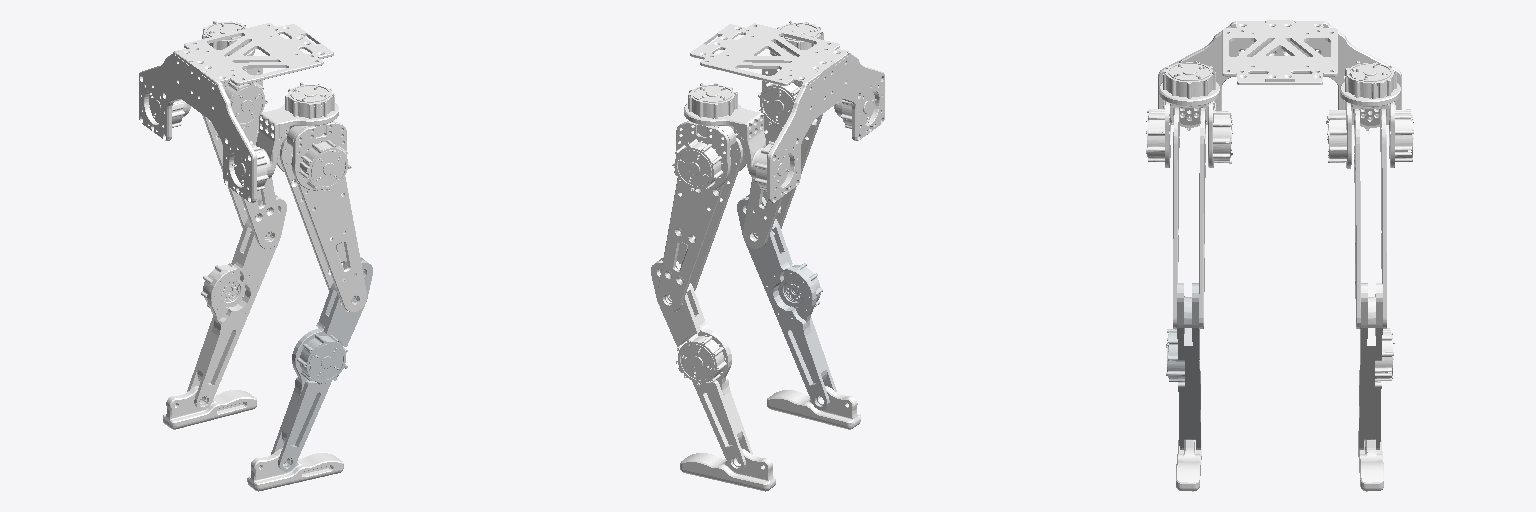
robot.urdf — neobot_no_mass_matrix:
<?xml version="1.0" encoding="utf-8"?>
<!-- This URDF was automatically created by SolidWorks to URDF Exporter! Originally created by [author] ([email redacted]) 
     Commit Version: 1.6.0-4-g7f85cfe  Build Version: 1.6.7995.38578
     For more information, please see http://wiki.ros.org/sw_urdf_exporter -->
<robot
  name="neobot_no_mass_matrix">
  <link
    name="base_link">
    <inertial>
      <origin
        xyz="0.025332 -0.00013939 -0.019715"
        rpy="0 0 0" />
      <mass
        value="1.0259" />
      <inertia
        ixx="0.0040709"
        ixy="-2.6093E-08"
        ixz="5.2109E-07"
        iyy="0.0013339"
        iyz="2.9974E-06"
        izz="0.0039882" />
    </inertial>
    <visual>
      <origin
        xyz="0 0 0"
        rpy="0 0 0" />
      <geometry>
        <mesh
          filename="../meshes/base_link.STL" />
      </geometry>
      <material
        name="">
        <color
          rgba="1 1 1 1" />
      </material>
    </visual>
    <collision>
      <origin
        xyz="0.1 0 0"
        rpy="0 0 0" />
      <geometry>
        <!-- <mesh
          filename="../meshes/base_link.STL" /> -->
        <box size="0.23 0.32 0.2" />
      </geometry>
    </collision>
  </link>
  <link
    name="l_hip_roll_link">
    <inertial>
      <origin
        xyz="0.10952 0.00060667 0.077433"
        rpy="0 0 0" />
      <mass
        value="0.43907" />
      <inertia
        ixx="0.00020514"
        ixy="-1.6352E-06"
        ixz="-1.4054E-05"
        iyy="0.00024798"
        iyz="2.9614E-08"
        izz="0.00034195" />
    </inertial>
    <visual>
      <origin
        xyz="0 0 0"
        rpy="0 0 0" />
      <geometry>
        <mesh
          filename="../meshes/l_hip_roll_link.STL" />
      </geometry>
      <material
        name="">
        <color
          rgba="1 1 1 1" />
      </material>
    </visual>
    
  </link>
  <joint
    name="l_hip_roll_joint"
    type="revolute">
    <origin
      xyz="0.0059839 0.1348 -0.050437"
      rpy="0 0 0" />
    <parent
      link="base_link" />
    <child
      link="l_hip_roll_link" />
    <axis
      xyz="1 0 0" />
    <limit
      lower="-0.35"
      upper="0.7"
      effort="100"
      velocity="25" />
  </joint>
  <link
    name="l_hip_yaw_link">
    <inertial>
      <origin
        xyz="-0.0011389 -9.0175E-05 -0.099938"
        rpy="0 0 0" />
      <mass
        value="0.79496" />
      <inertia
        ixx="0.00036341"
        ixy="-6.6426E-06"
        ixz="-9.9482E-06"
        iyy="0.00061556"
        iyz="-2.7749E-07"
        izz="0.0003621" />
    </inertial>
    <visual>
      <origin
        xyz="0 0 0"
        rpy="0 0 0" />
      <geometry>
        <mesh
          filename="../meshes/l_hip_yaw_link.STL" />
      </geometry>
      <material
        name="">
        <color
          rgba="1 1 1 1" />
      </material>
    </visual>
    
  </link>
  <joint
    name="l_hip_yaw_joint"
    type="revolute">
    <origin
      xyz="0.12444 0.0004858 0.1045"
      rpy="0 0 0" />
    <parent
      link="l_hip_roll_link" />
    <child
      link="l_hip_yaw_link" />
    <axis
      xyz="0 0 1" />
    <limit
      lower="-0.35"
      upper="0.35"
      effort="100"
      velocity="25" />
  </joint>
  <link
    name="l_hip_pitch_link">
    <inertial>
      <origin
        xyz="0.028914 -0.061567 -0.10564"
        rpy="0 0 0" />
      <mass
        value="0.26986" />
      <inertia
        ixx="0.0019902"
        ixy="-6.2669E-06"
        ixz="0.00048401"
        iyy="0.0022286"
        iyz="1.275E-05"
        izz="0.00024107" />
    </inertial>
    <visual>
      <origin
        xyz="0 0 0"
        rpy="0 0 0" />
      <geometry>
        <mesh
          filename="../meshes/l_hip_pitch_link.STL" />
      </geometry>
      <material
        name="">
        <color
          rgba="1 1 1 1" />
      </material>
    </visual>
    
  </link>
  <joint
    name="l_hip_pitch_joint"
    type="revolute">
    <origin
      xyz="-0.0016555 0.063239 -0.10747"
      rpy="0 0 0" />
    <parent
      link="l_hip_yaw_link" />
    <child
      link="l_hip_pitch_link" />
    <axis
      xyz="0.02617 -0.99966 0" />
    <limit
      lower="-1"
      upper="1"
      effort="100"
      velocity="25" />
  </joint>
  <link
    name="l_knee_pitch_link">
    <inertial>
      <origin
        xyz="-0.05093 0.014286 -0.094778"
        rpy="0 0 0" />
      <mass
        value="0.61414" />
      <inertia
        ixx="0.0024395"
        ixy="-1.4322E-05"
        ixz="-0.00099695"
        iyy="0.0030292"
        iyz="-2.6006E-05"
        izz="0.00067015" />
    </inertial>
    <visual>
      <origin
        xyz="0 0 0"
        rpy="0 0 0" />
      <geometry>
        <mesh
          filename="../meshes/l_knee_pitch_link.STL" />
      </geometry>
      <material
        name="">
        <color
          rgba="1 1 1 1" />
      </material>
    </visual>
    
  </link>
  <joint
    name="l_knee_pitch_joint"
    type="revolute">
    <origin
      xyz="0.069483 -0.067847 -0.26198"
      rpy="0 0 0" />
    <parent
      link="l_hip_pitch_link" />
    <child
      link="l_knee_pitch_link" />
    <axis
      xyz="0.02617 -0.99966 0" />
    <limit
      lower="-1"
      upper="1"
      effort="100"
      velocity="25" />
  </joint>
  <link
    name="l_ankle_pitch_link">
    <inertial>
      <origin
        xyz="0.0182968915849038 0.00671074692625817 -0.0230131226592281"
        rpy="0 0 0" />
      <mass
        value="0.150424633030641" />
      <inertia
        ixx="3.39685529656541E-05"
        ixy="-1.00223126318698E-05"
        ixz="1.65280472263256E-05"
        iyy="0.000329059253769662"
        iyz="5.24825584617872E-07"
        izz="0.00031977114492758" />
    </inertial>
    <visual>
      <origin
        xyz="0 0 0"
        rpy="0 0 0" />
      <geometry>
        <mesh
          filename="../meshes/l_ankle_pitch_link.STL" />
      </geometry>
      <material
        name="">
        <color
          rgba="1 1 1 1" />
      </material>
    </visual>
    <collision
      name="l_ankle_pitch_link_collision">
      <origin
        xyz="0. 0. -0."
        rpy="0 0 0" />
      <!-- <origin
        xyz="0.015 0.007 -0.035"
        rpy="0 0 0" /> -->
      <geometry>
        <mesh
          filename="../meshes/l_ankle_pitch_link.STL" />
          <!-- <box 
            size="0.15 0.03 0.01" /> -->
      </geometry>
    </collision>
  </link>
  <joint
    name="l_ankle_pitch_joint"
    type="revolute">
    <origin
      xyz="-0.11851 -0.00066656 -0.26317"
      rpy="0 0 0" />
    <parent
      link="l_knee_pitch_link" />
    <child
      link="l_ankle_pitch_link" />
    <axis
      xyz="-0.02617 0.99966 0" />
    <limit
      lower="-1"
      upper="1"
      effort="100"
      velocity="25" />
  </joint>
  <link
    name="r_hip_roll_link">
    <inertial>
      <origin
        xyz="0.11124 -0.0002406 0.077505"
        rpy="0 0 0" />
      <mass
        value="0.43907" />
      <inertia
        ixx="0.00020805"
        ixy="-6.817E-07"
        ixz="-1.4015E-05"
        iyy="0.00024507"
        iyz="-5.2307E-09"
        izz="0.00034195" />
    </inertial>
    <visual>
      <origin
        xyz="0 0 0"
        rpy="0 0 0" />
      <geometry>
        <mesh
          filename="../meshes/r_hip_roll_link.STL" />
      </geometry>
      <material
        name="">
        <color
          rgba="1 1 1 1" />
      </material>
    </visual>
    
  </link>
  <joint
    name="r_hip_roll_joint"
    type="revolute">
    <origin
      xyz="0.0020094 -0.13529 -0.050508"
      rpy="0 0 0" />
    <parent
      link="base_link" />
    <child
      link="r_hip_roll_link" />
    <axis
      xyz="1 0 0" />
    <limit
      lower="-0.7"
      upper="0.35"
      effort="100"
      velocity="25" />
  </joint>
  <link
    name="r_hip_yaw_link">
    <inertial>
      <origin
        xyz="-0.0014454 3.7879E-05 -0.10005"
        rpy="0 0 0" />
      <mass
        value="0.79496" />
      <inertia
        ixx="0.00036162"
        ixy="6.6346E-06"
        ixz="-1.1833E-05"
        iyy="0.00061556"
        iyz="3.5286E-07"
        izz="0.00036389" />
    </inertial>
    <visual>
      <origin
        xyz="0 0 0"
        rpy="0 0 0" />
      <geometry>
        <mesh
          filename="../meshes/r_hip_yaw_link.STL" />
      </geometry>
      <material
        name="">
        <color
          rgba="1 1 1 1" />
      </material>
    </visual>
    
  </link>
  <joint
    name="r_hip_yaw_joint"
    type="revolute">
    <origin
      xyz="0.12641 0 0.10457"
      rpy="0 0 0" />
    <parent
      link="r_hip_roll_link" />
    <child
      link="r_hip_yaw_link" />
    <axis
      xyz="0 0 1" />
    <limit
      lower="-0.35"
      upper="0.35"
      effort="100"
      velocity="25" />
  </joint>
  <link
    name="r_hip_pitch_link">
    <inertial>
      <origin
        xyz="0.0296613029326732 0.0615385133216562 -0.105441901990499"
        rpy="0 0 0" />
      <mass
        value="0.269855469121405" />
      <inertia
        ixx="0.00198325131710804"
        ixy="6.40714270998516E-06"
        ixz="0.000496356338465778"
        iyy="0.00222863110875713"
        iyz="-1.29149112081268E-05"
        izz="0.000248019984218983" />
    </inertial>
    <visual>
      <origin
        xyz="0 0 0"
        rpy="0 0 0" />
      <geometry>
        <mesh
          filename="../meshes/r_hip_pitch_link.STL" />
      </geometry>
      <material
        name="">
        <color
          rgba="1 1 1 1" />
      </material>
    </visual>
    
  </link>
  <joint
    name="r_hip_pitch_joint"
    type="revolute">
    <origin
      xyz="-0.0015203 -0.063243 -0.10796"
      rpy="0 0 0" />
    <parent
      link="r_hip_yaw_link" />
    <child
      link="r_hip_pitch_link" />
    <axis
      xyz="-0.02617 -0.99966 0" />
    <limit
      lower="-1"
      upper="01"
      effort="100"
      velocity="25" />
  </joint>
  <link
    name="r_knee_pitch_link">
    <inertial>
      <origin
        xyz="-0.050275 0.015498 -0.094854"
        rpy="0 0 0" />
      <mass
        value="0.61414" />
      <inertia
        ixx="0.0024422"
        ixy="1.421E-05"
        ixz="-0.00099833"
        iyy="0.0030292"
        iyz="2.6016E-05"
        izz="0.00066747" />
    </inertial>
    <visual>
      <origin
        xyz="0 0 0"
        rpy="0 0 0" />
      <geometry>
        <mesh
          filename="../meshes/r_knee_pitch_link.STL" />
      </geometry>
      <material
        name="">
        <color
          rgba="0.89804 0.91765 0.92941 1" />
      </material>
    </visual>
    
  </link>
  <joint
    name="r_knee_pitch_joint"
    type="revolute">
    <origin
      xyz="0.070563 0.038225 -0.26149"
      rpy="0 0 0" />
    <parent
      link="r_hip_pitch_link" />
    <child
      link="r_knee_pitch_link" />
    <axis
      xyz="-0.02617 -0.99966 0" />
    <limit
      lower="-1"
      upper="1"
      effort="100"
      velocity="25" />
  </joint>
  <link
    name="r_ankle_pitch_link">
    <inertial>
      <origin
        xyz="0.0183208247116615 -0.0057965458968319 -0.0230131226546726"
        rpy="0 0 0" />
      <mass
        value="0.150424633173082" />
      <inertia
        ixx="3.37290578699588E-05"
        ixy="5.45129807480738E-06"
        ixz="1.65328679786539E-05"
        iyy="0.000329298749429327"
        iyz="-3.40681507625098E-07"
        izz="0.000319771145413726" />
    </inertial>
    <visual>
      <origin
        xyz="0 0 0"
        rpy="0 0 0" />
      <geometry>
        <mesh
          filename="../meshes/r_ankle_pitch_link.STL" />
      </geometry>
      <material
        name="">
        <color
          rgba="1 1 1 1" />
      </material>
    </visual>
    <collision
      name="r_ankle_pitch_link_collision">
      <!-- <origin
        xyz="0.015 -0.007 -0.035"
        rpy="0 0 0" /> -->
      <origin
        xyz="0. -0. -0."
        rpy="0 0 0" />
      <geometry>
        <mesh
          filename="../meshes/r_ankle_pitch_link.STL" />
          <!-- <box
            size="0.15 0.03 0.01" /> -->
      </geometry>
    </collision>
  </link>
  <joint
    name="r_ankle_pitch_joint"
    type="revolute">
    <origin
      xyz="-0.11773 0.030653 -0.26317"
      rpy="0 0 0" />
    <parent
      link="r_knee_pitch_link" />
    <child
      link="r_ankle_pitch_link" />
    <axis
      xyz="-0.02617 -0.99966 0" />
    <limit
      lower="-1"
      upper="1"
      effort="100"
      velocity="25" />
  </joint>
</robot>

--- Render facts (derived) ---
3 views of the same robot in one strip: view 1: azimuth 30°, elevation 25°; view 2: azimuth 150°, elevation 25°; view 3: azimuth 270°, elevation 25° (orthographic).
Robot: neobot_no_mass_matrix — 11 links, 10 joints (10 revolute); root link base_link; default pose: every joint at zero.
Links seen in each view (by area): view 1: base_link, l_knee_pitch_link, r_knee_pitch_link, r_hip_pitch_link, r_hip_yaw_link, r_hip_roll_link, l_hip_pitch_link, r_ankle_pitch_link, l_ankle_pitch_link, l_hip_yaw_link, l_hip_roll_link; view 2: base_link, r_knee_pitch_link, l_knee_pitch_link, l_hip_pitch_link, l_hip_yaw_link, l_hip_roll_link, r_hip_pitch_link, l_ankle_pitch_link, r_ankle_pitch_link, r_hip_yaw_link, r_hip_roll_link; view 3: base_link, l_knee_pitch_link, r_knee_pitch_link, l_hip_yaw_link, r_hip_yaw_link, r_hip_roll_link, l_hip_roll_link, l_hip_pitch_link, r_hip_pitch_link, l_ankle_pitch_link, r_ankle_pitch_link.
Boxes of the visible links, box(x1,y1,x2,y2) form: base_link: box(139, 23, 333, 202); l_knee_pitch_link: box(187, 195, 286, 409); r_knee_pitch_link: box(271, 257, 372, 471); r_hip_pitch_link: box(280, 134, 366, 311); r_hip_yaw_link: box(276, 121, 351, 190); r_hip_roll_link: box(256, 82, 338, 178); l_hip_pitch_link: box(202, 115, 280, 248); r_ankle_pitch_link: box(247, 448, 343, 491); l_ankle_pitch_link: box(163, 386, 256, 429); l_hip_yaw_link: box(222, 68, 267, 128); l_hip_roll_link: box(177, 21, 254, 116); base_link: box(690, 23, 884, 203); r_knee_pitch_link: box(737, 195, 836, 409); l_knee_pitch_link: box(651, 257, 752, 471); l_hip_pitch_link: box(657, 138, 742, 311); l_hip_yaw_link: box(672, 121, 746, 191); l_hip_roll_link: box(684, 83, 765, 178); r_hip_pitch_link: box(743, 114, 822, 248); l_ankle_pitch_link: box(680, 448, 775, 491); r_ankle_pitch_link: box(767, 386, 860, 429); r_hip_yaw_link: box(758, 69, 800, 126); r_hip_roll_link: box(770, 20, 845, 116); base_link: box(1158, 20, 1401, 130); l_knee_pitch_link: box(1358, 283, 1394, 449); r_knee_pitch_link: box(1166, 283, 1200, 449); l_hip_yaw_link: box(1326, 101, 1413, 168); r_hip_yaw_link: box(1146, 101, 1232, 167); r_hip_roll_link: box(1159, 60, 1219, 125); l_hip_roll_link: box(1340, 61, 1400, 125); l_hip_pitch_link: box(1354, 109, 1386, 328); r_hip_pitch_link: box(1173, 108, 1205, 328); l_ankle_pitch_link: box(1358, 440, 1383, 491); r_ankle_pitch_link: box(1176, 440, 1201, 491).
Bounding box of the posed robot: 0.2389 × 0.4026 × 0.694 m (x, y, z).
11 mesh visuals loaded from 11 distinct referenced files (11 binary STL).
